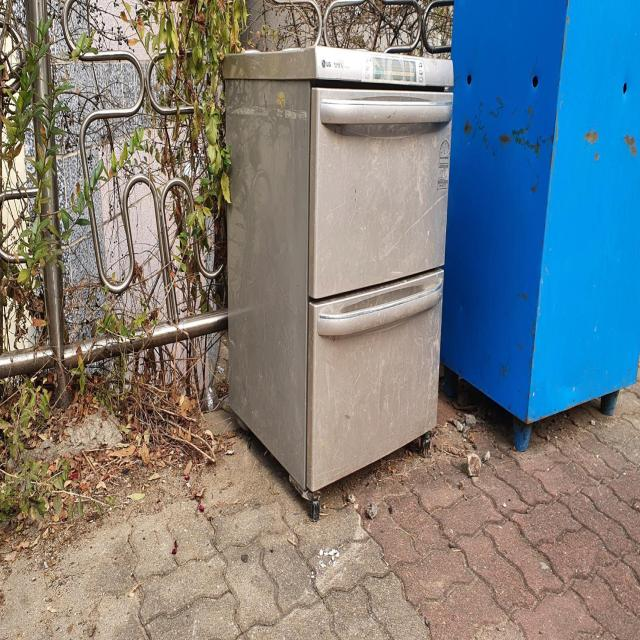refrigerator: (220, 43, 456, 523)
